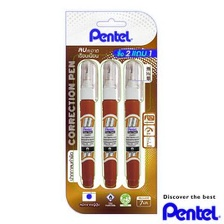book: (62, 8, 159, 216)
correction_fluid: (100, 58, 124, 189), (122, 58, 145, 190), (78, 58, 100, 189)
